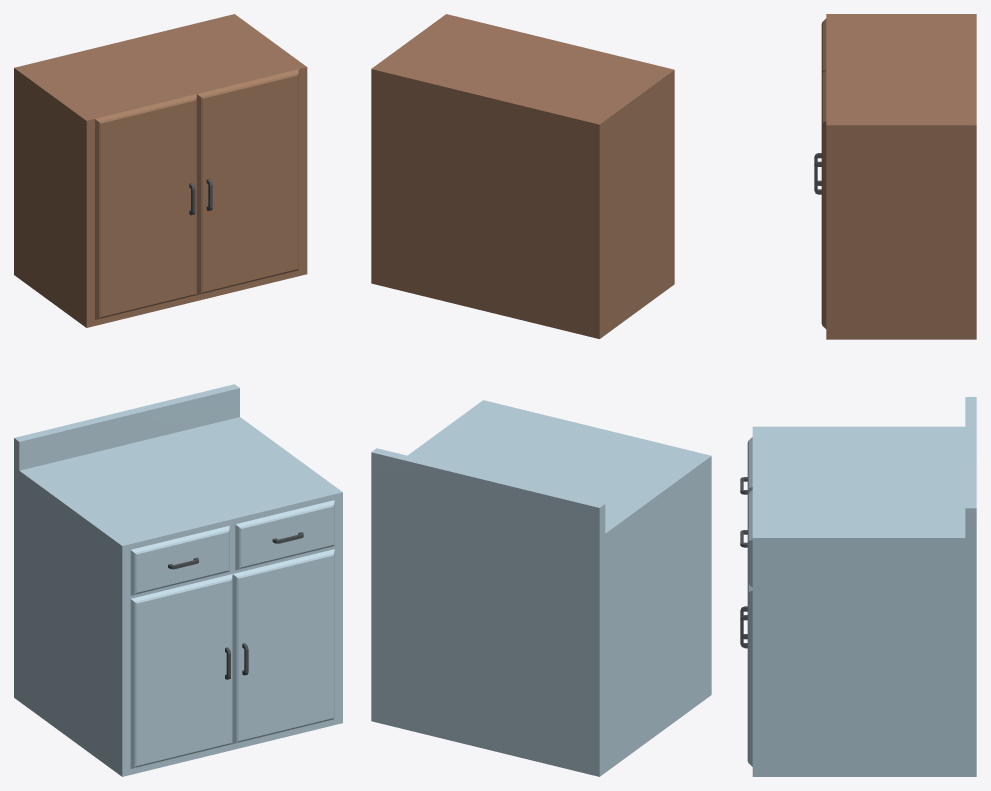
The model's file is CUCINA_MODULARE.fbx.
3 renders of one model, left to right at view 1: azimuth 30°, elevation 25°; view 2: azimuth 150°, elevation 25°; view 3: azimuth 270°, elevation 25°, orthographic. The views are drawn at different scales.
Parts seen in each view (by area): view 1: Cucina_Modulare; view 2: Cucina_Modulare; view 3: Cucina_Modulare.
Boxes of the visible parts, <box> form: Cucina_Modulare: <box>14,14,342,776</box>; Cucina_Modulare: <box>371,14,711,776</box>; Cucina_Modulare: <box>740,14,976,776</box>.
Bounding box in the file's own units: 2 × 5.46 × 1.79.
